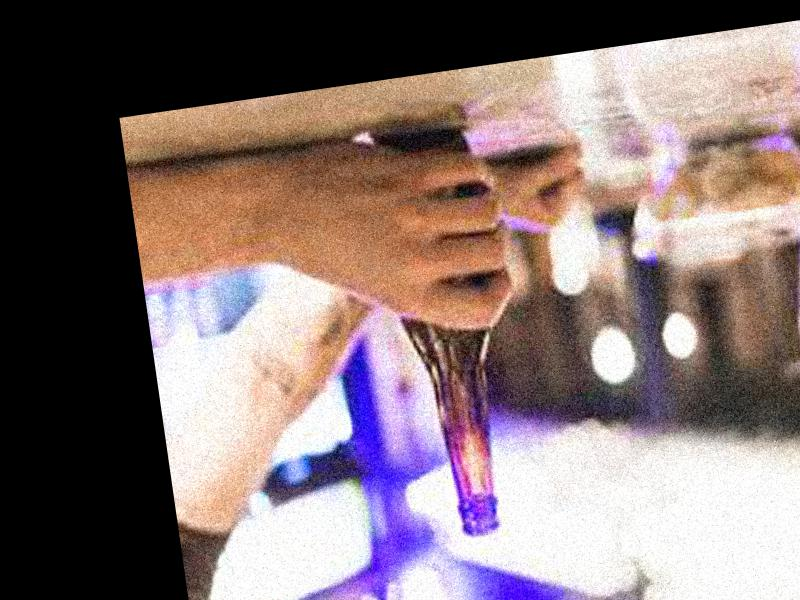Beer: (375, 127, 522, 542)
